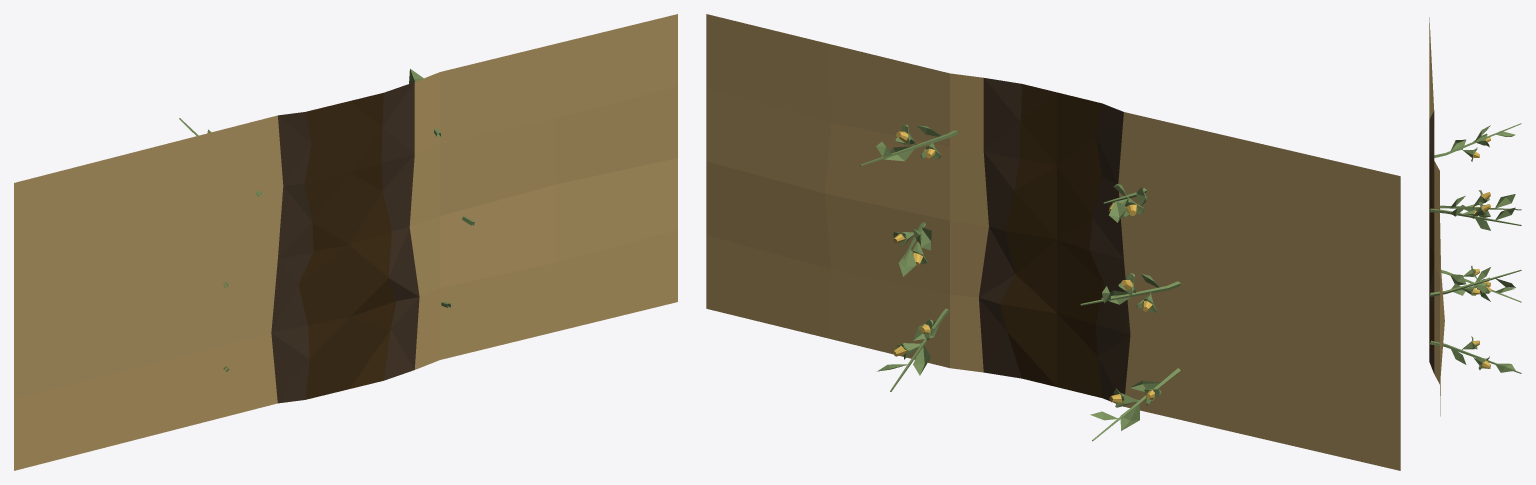
Rendered from pole1.fbx.
3 views of the same model, side by side, from view 1: azimuth 30°, elevation 25°; view 2: azimuth 150°, elevation 25°; view 3: azimuth 270°, elevation 25° (orthographic). The views are drawn at different scales.
Visible parts, largest first — view 1: pole1; view 2: pole1; view 3: pole1.
Boxes of the visible parts, box(x1,y1,x2,y2) form: pole1: box(14, 14, 677, 470); pole1: box(706, 14, 1400, 470); pole1: box(1429, 17, 1521, 416).
Size of the model in its own units: 3232 by 1326 by 518.
